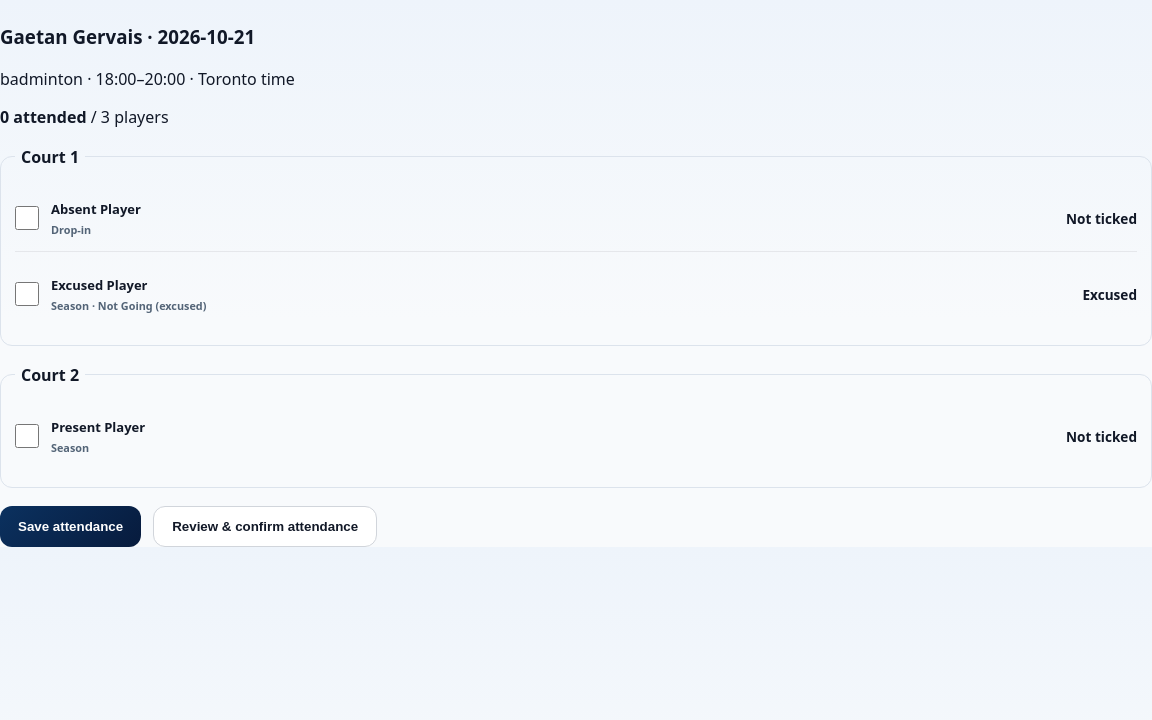
Test: Convenor attendance › requires explicit review, lists only unexcused absences and confirms once
Expected: the text "Present Player" is shown, [51,418,145,436]
Click the checkbox labelled "Present Player Season Not ticked".
click(27, 436)  # box [15,424,39,448]
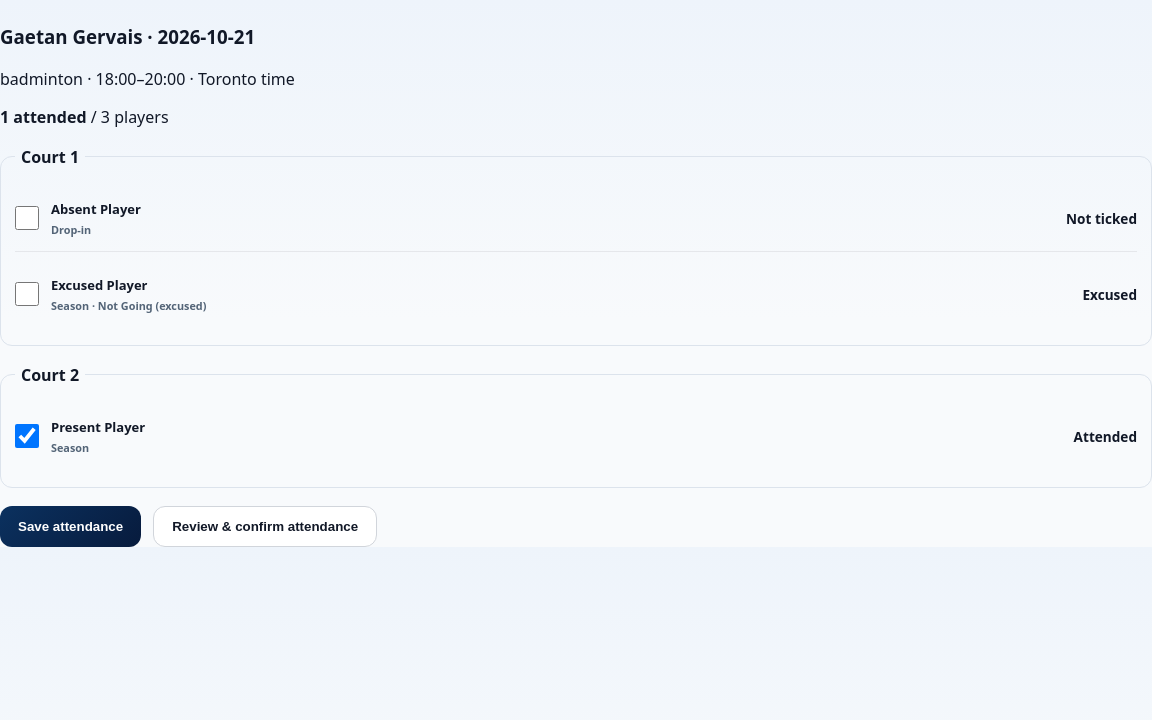
Click the button "Review & confirm attendance".
click(265, 526)  # box [153,506,377,547]
(page scrolled)
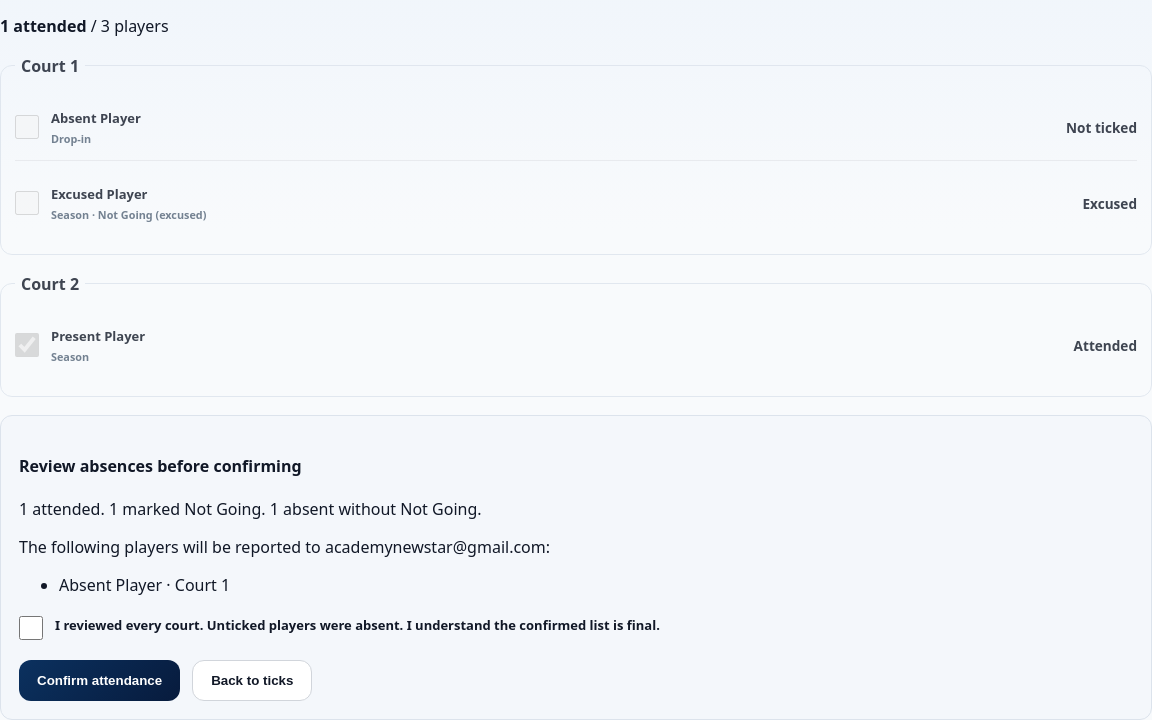
Expected: the list does not show "Excused Player"
Result: the list shows "Absent Player" at [59,574,162,596]
Result: the button "Confirm attendance" is disabled at [19,660,180,701]
Click the checkbox labelled "I reviewed every court".
click(31, 628)  # box [19,616,43,640]
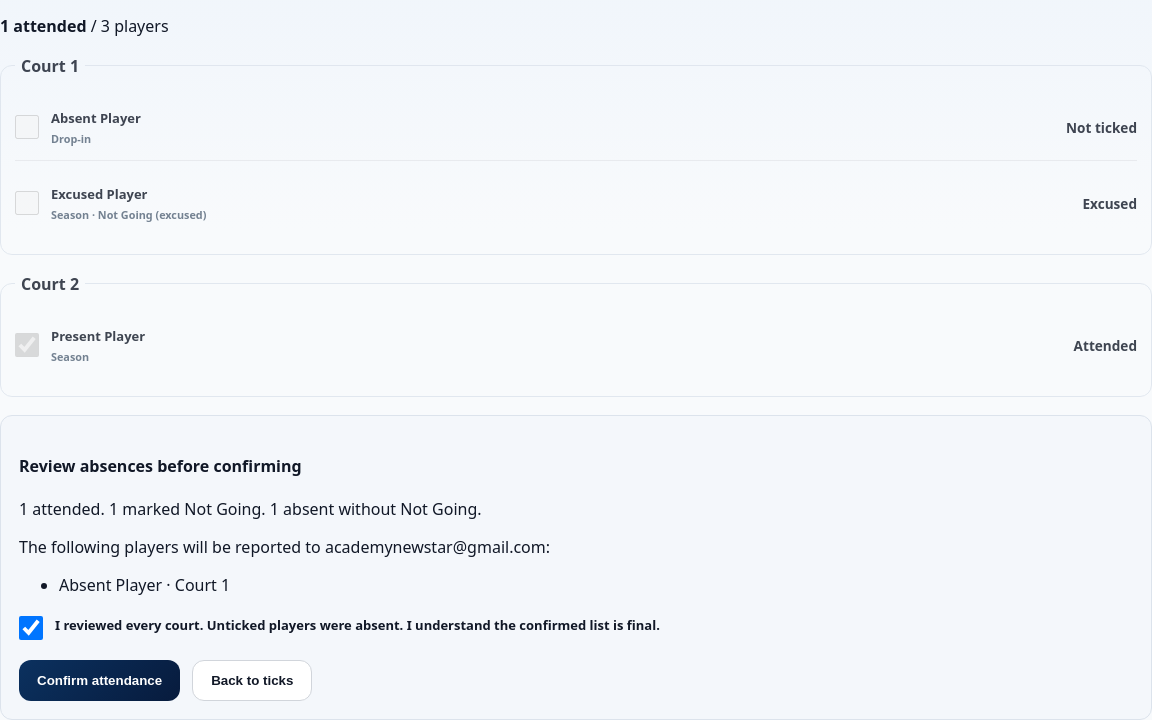
Click the button "Confirm attendance".
click(100, 681)  # box [19,660,180,701]
(page scrolled)
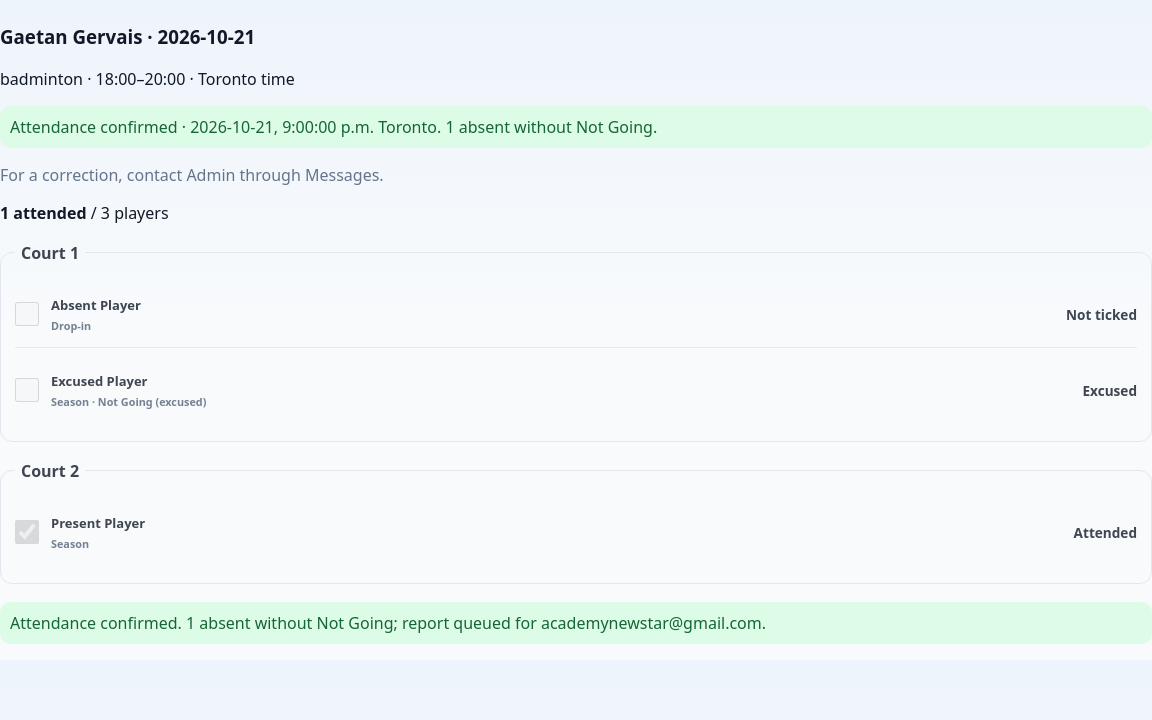
Result: the text "report queued for academynewstar" is shown at [10,612,766,634]
Result: the button "Confirm attendance" is gone
